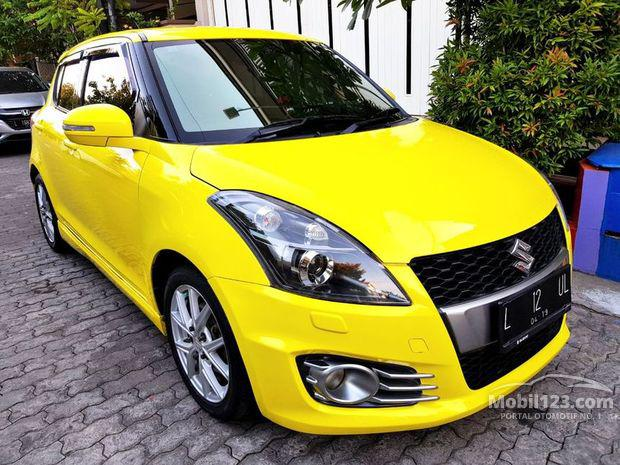plate: (500, 265, 571, 342)
